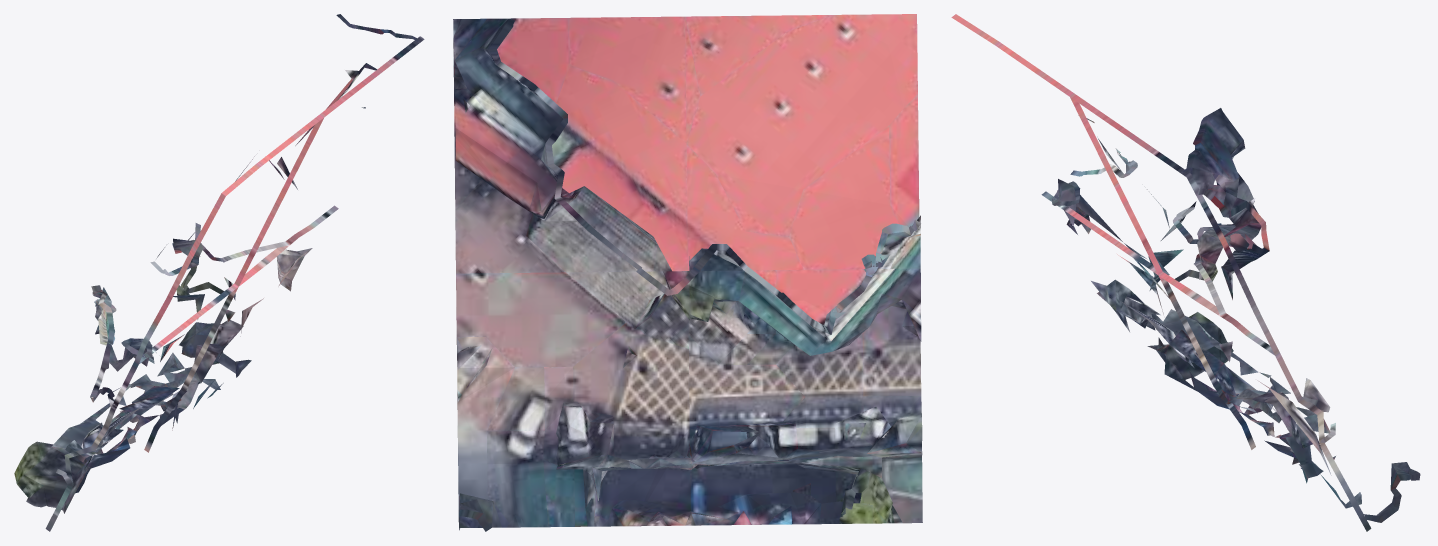
The picture shows the model from 3 angles, left to right: view 1: azimuth 30°, elevation 25°; view 2: azimuth 150°, elevation 25°; view 3: azimuth 270°, elevation 25°; orthographic projection. The views are drawn at different scales.
Size of the model in its own units: 38.42 by 37.15 by 36.63.
2 materials, 2 textured.
